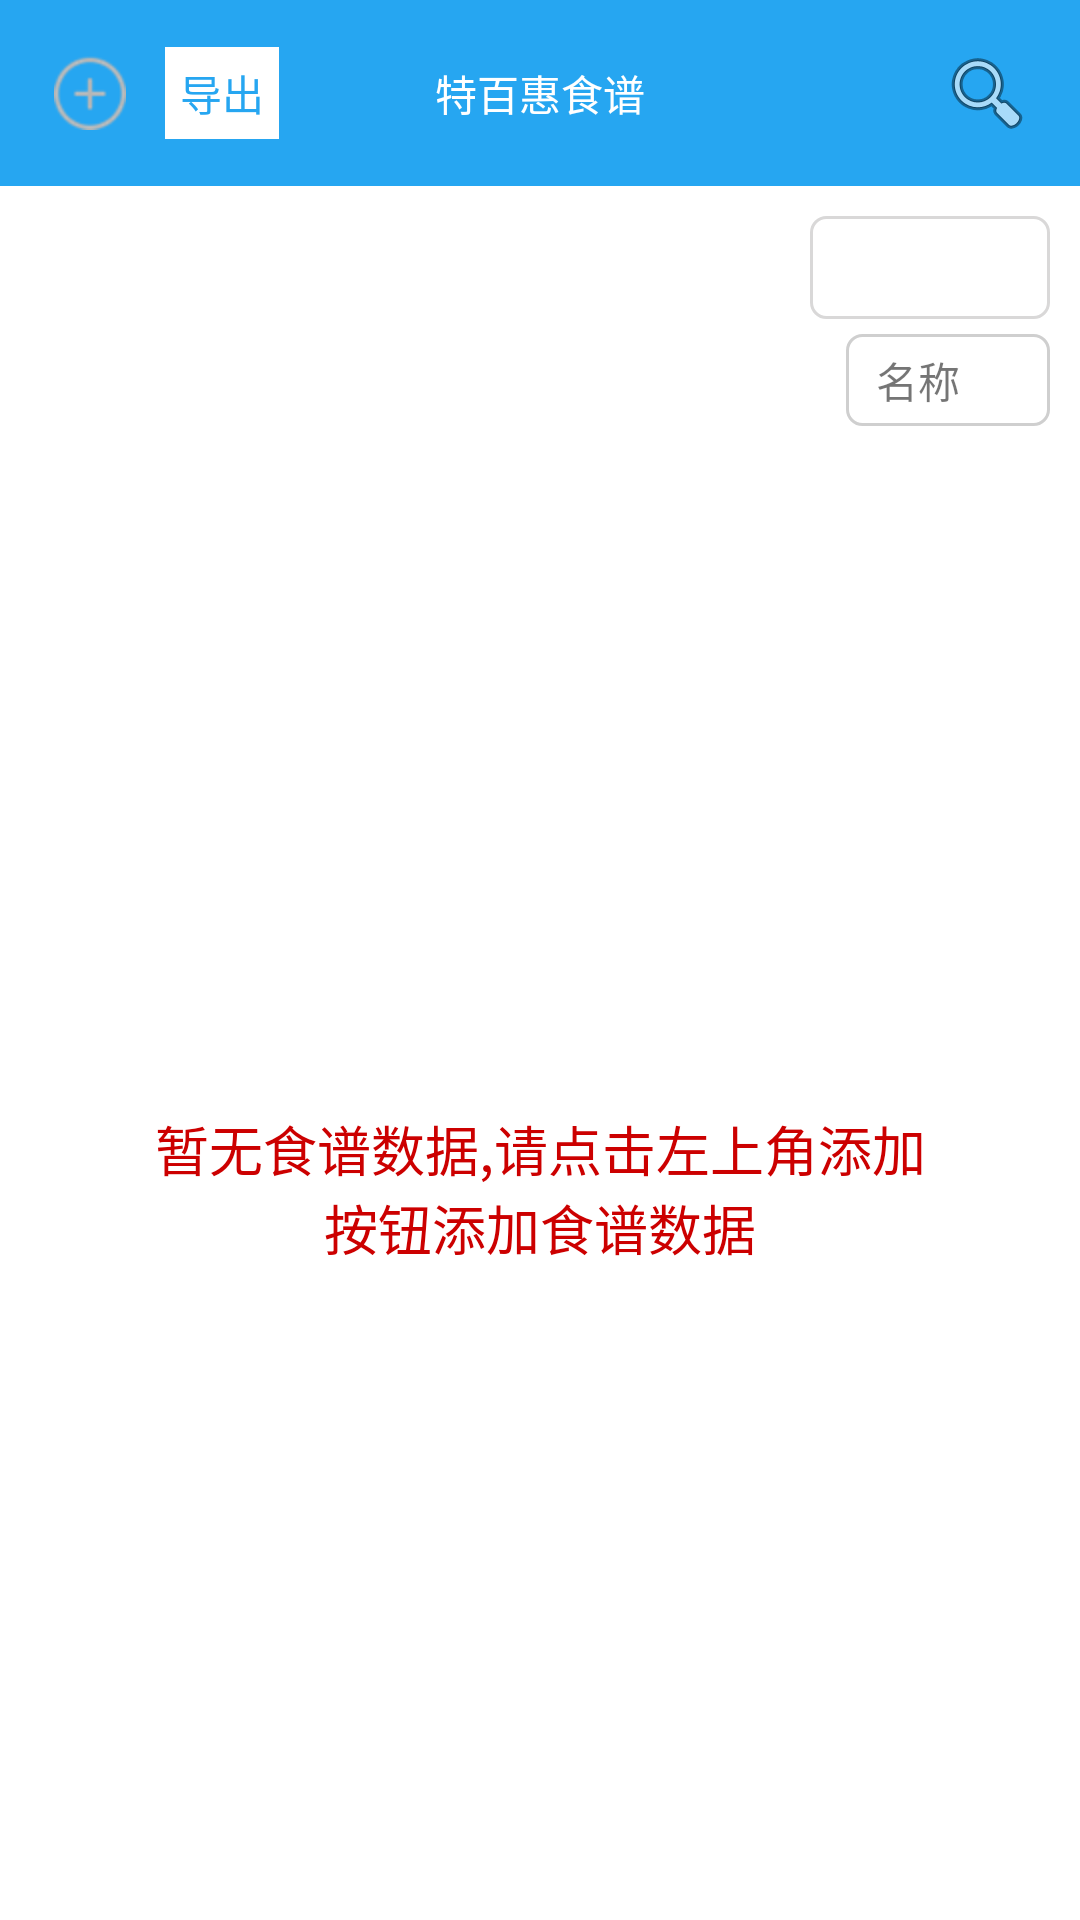

Icons on this 1080px×1920px Android screen, each with the point to tap as point (x, y):
search: point (987, 93)
